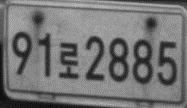1: (37, 32, 52, 78)
2: (85, 34, 105, 82)
5: (156, 40, 178, 86)
8: (130, 38, 154, 84), (107, 37, 129, 83)
9: (11, 31, 33, 76)
로: (57, 41, 79, 80)
